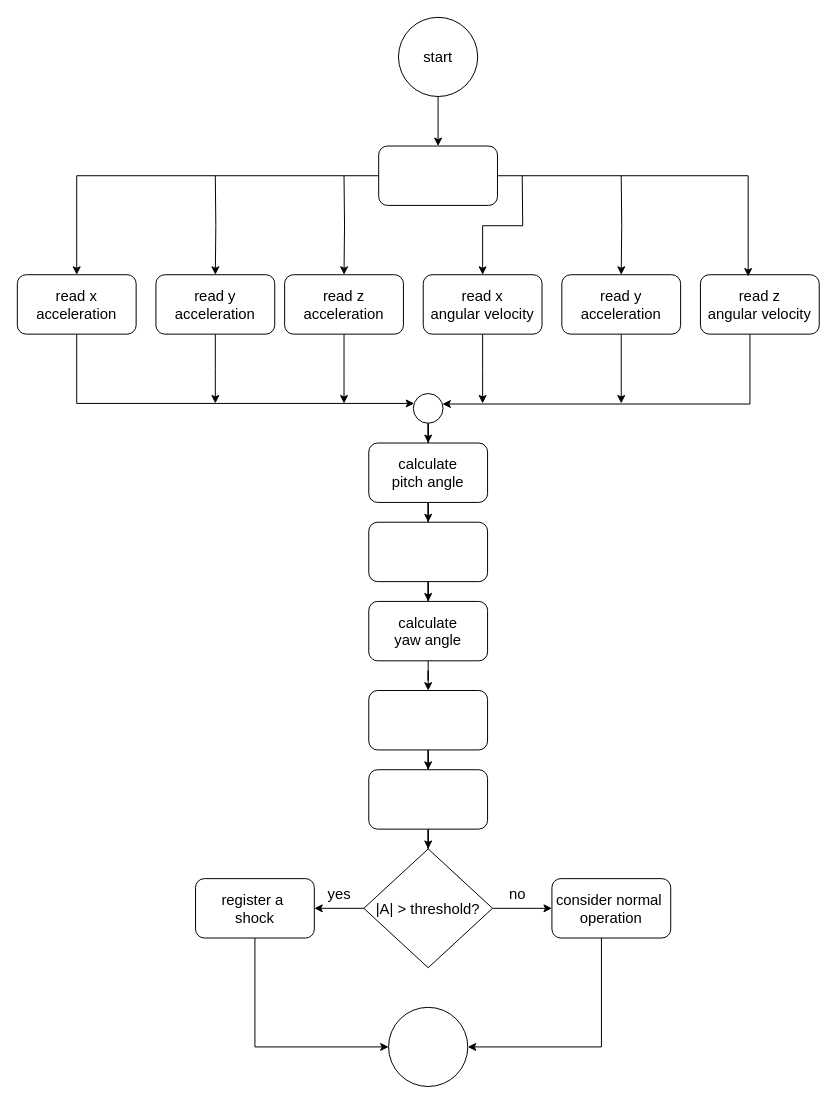
Image size: 837x1104. Some labels were removed from this diagram. The centre of each missing label's shape, as x and y in pixels:
calculate roll angle: the point at 428,551
compare with a shock threshold: the point at 428,799
compute the magnitude of acceleration: the point at 428,720
initialize MPU6050: the point at 437,175
stop: the point at 428,1046
